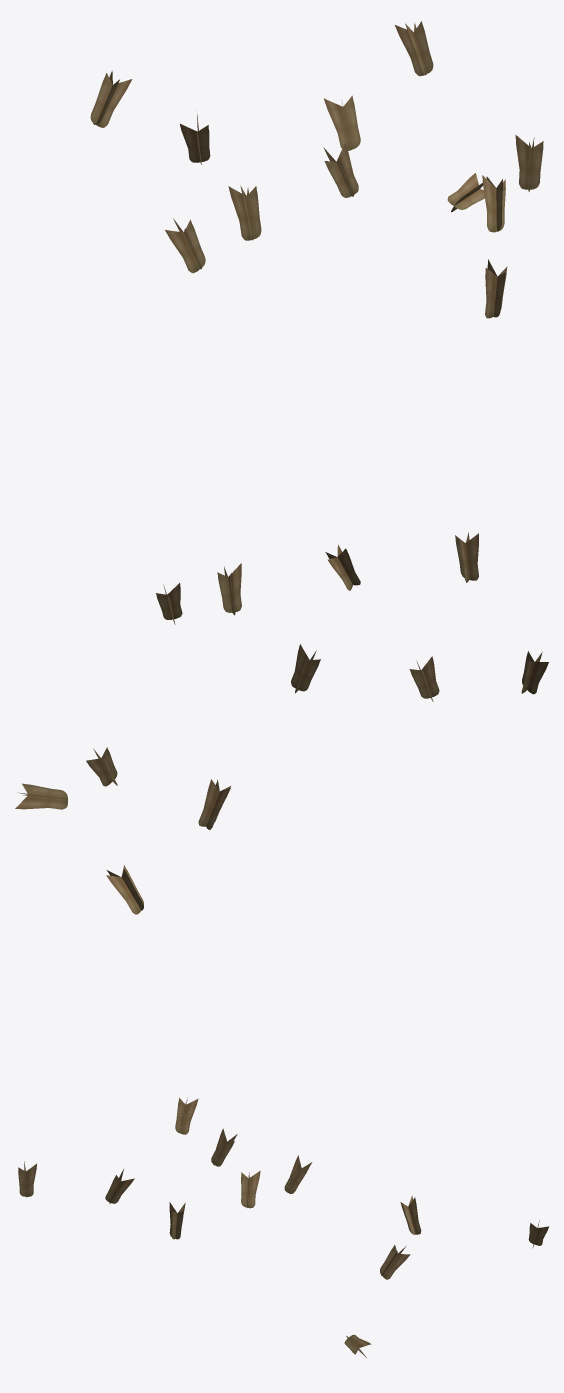
Rendered from Yland3_bj_04 Yland3.FBX.
The picture shows the model from 3 angles, top to bottom: view 1: azimuth 30°, elevation 25°; view 2: azimuth 150°, elevation 25°; view 3: azimuth 270°, elevation 25°; orthographic projection. The views are drawn at different scales.
Visible parts, largest first — view 1: Yland3_bj_04 Yland3; view 2: Yland3_bj_04 Yland3; view 3: Yland3_bj_04 Yland3.
Part boxes in pixels (x1,y1,x2,y2): Yland3_bj_04 Yland3: [90, 21, 543, 318]; Yland3_bj_04 Yland3: [15, 532, 548, 914]; Yland3_bj_04 Yland3: [18, 1097, 548, 1357].
Bounding box in the file's own units: 38.55 × 28.49 × 57.83.
